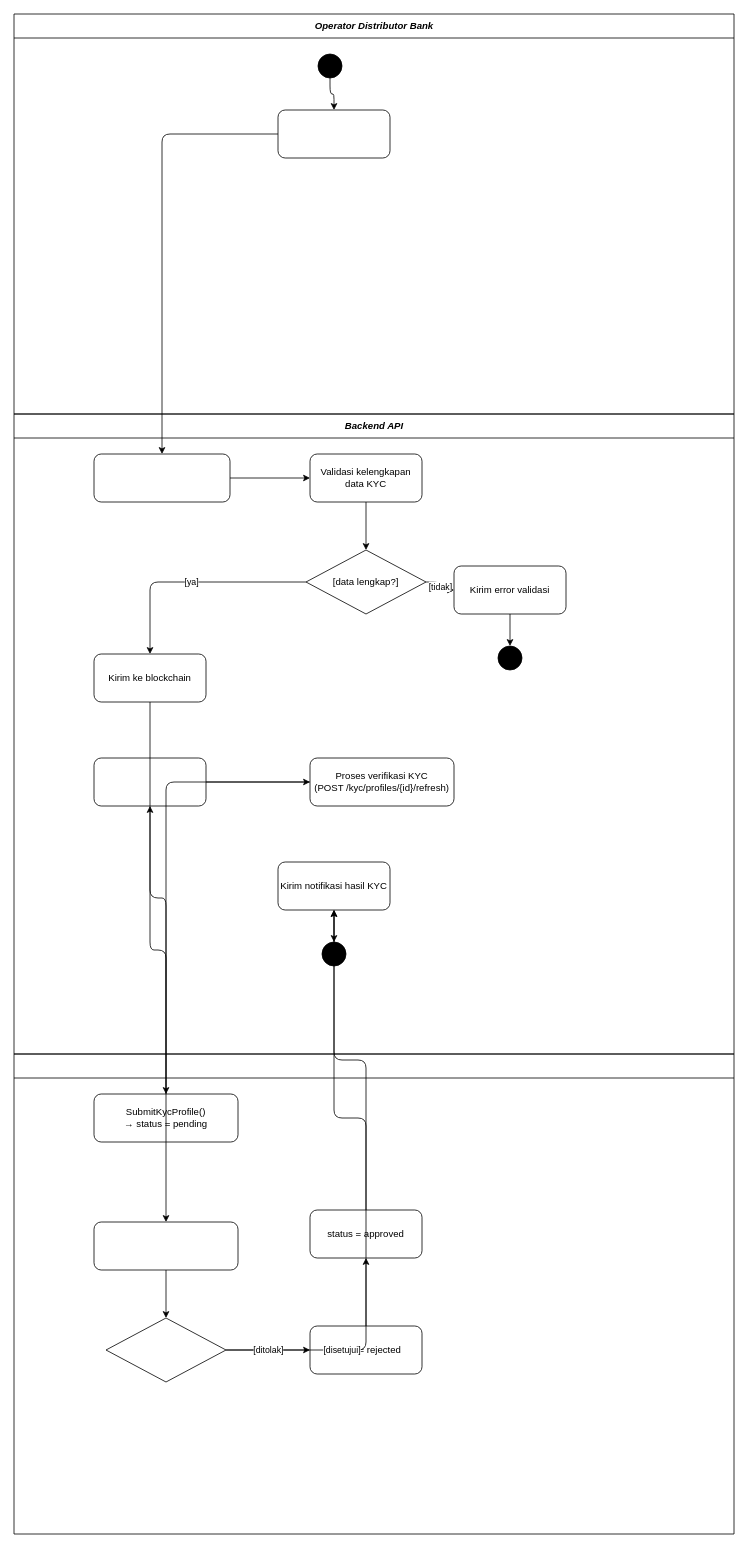
Image size: 748x1548. Some labels were removed from this diagram. Each missing label, with the box of its shape:
[hasil verifikasi?]: (105, 1317, 226, 1382)
Blockchain: (13, 1053, 734, 1534)
Mengirim data KYC pelanggan: (277, 109, 390, 158)
RefreshKycProfile() Periksa dokumen & risiko: (93, 1221, 238, 1270)
Simpan profil KYC pending: (93, 757, 206, 806)
Terima data KYC (POST /kyc/profiles): (93, 453, 230, 502)
